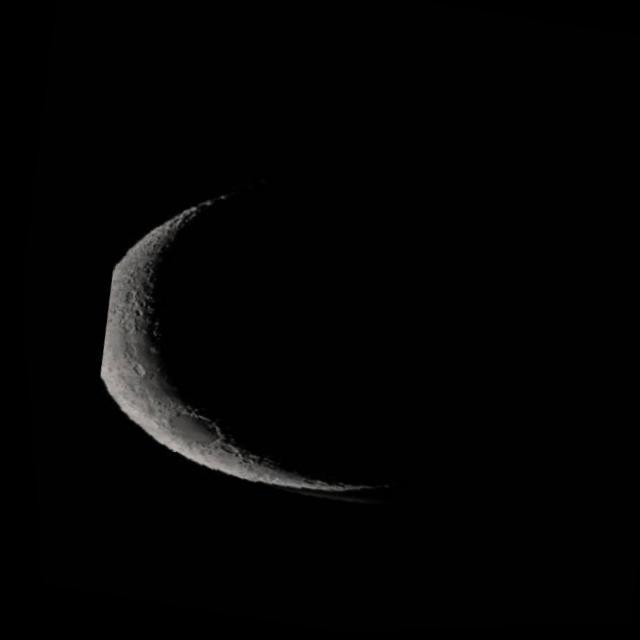moon: (64, 140, 624, 560)
